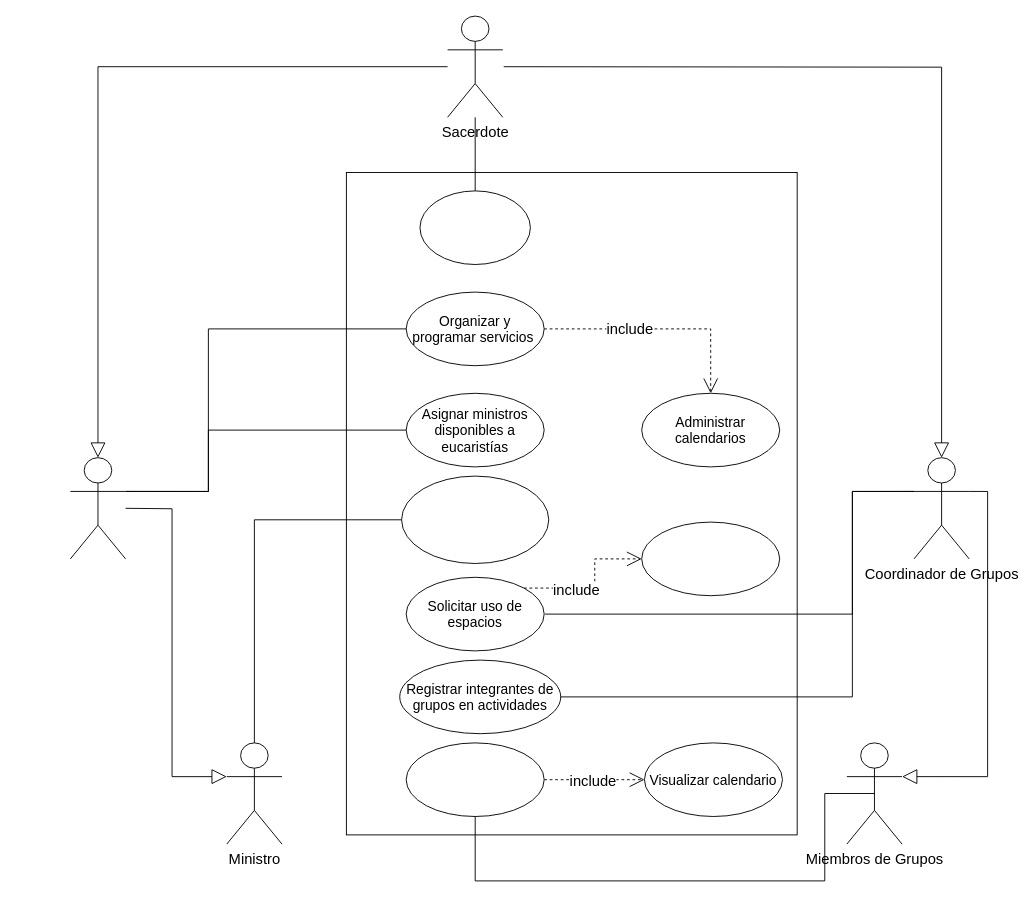
Some shapes in this 1034 by 898 pixel diagram are drawn without their labels. The shapes that lost their labels are listed below. From the top down, each one's box as (x1, y1, x2, y2) in pixels, then its label:
(419, 190, 530, 264): Aceptar o rechazar reservas
(69, 457, 126, 559): Coordinador de Ministros
(401, 475, 549, 564): Visualizar actividades de ministros asignadas
(641, 521, 780, 596): Visualizar salones y disponibilidad
(405, 742, 544, 816): Acceder a detalles de las actividades
